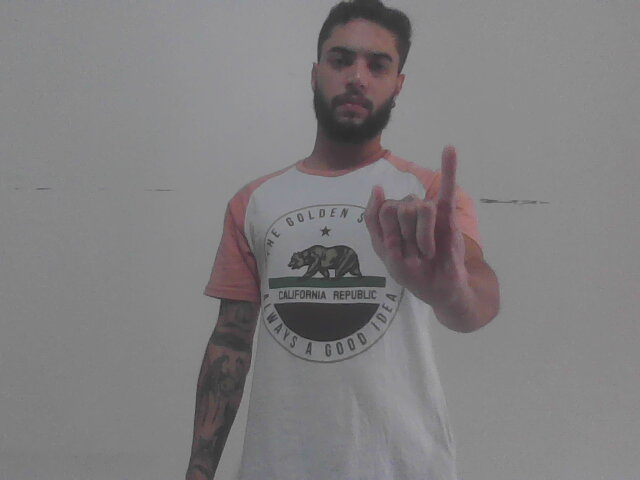i: (358, 142, 475, 313)
